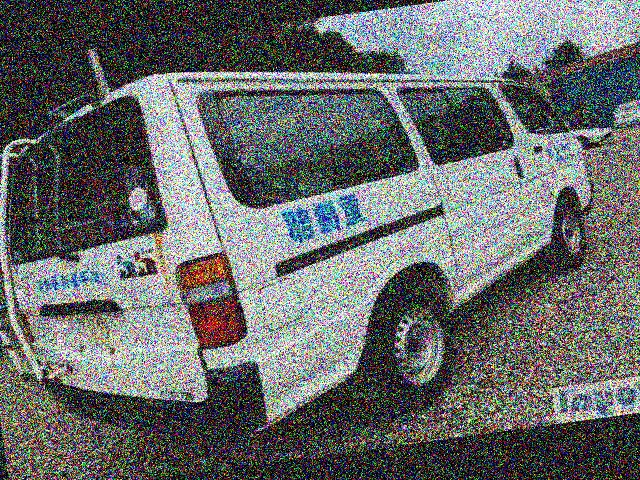van: (0, 21, 615, 459)
